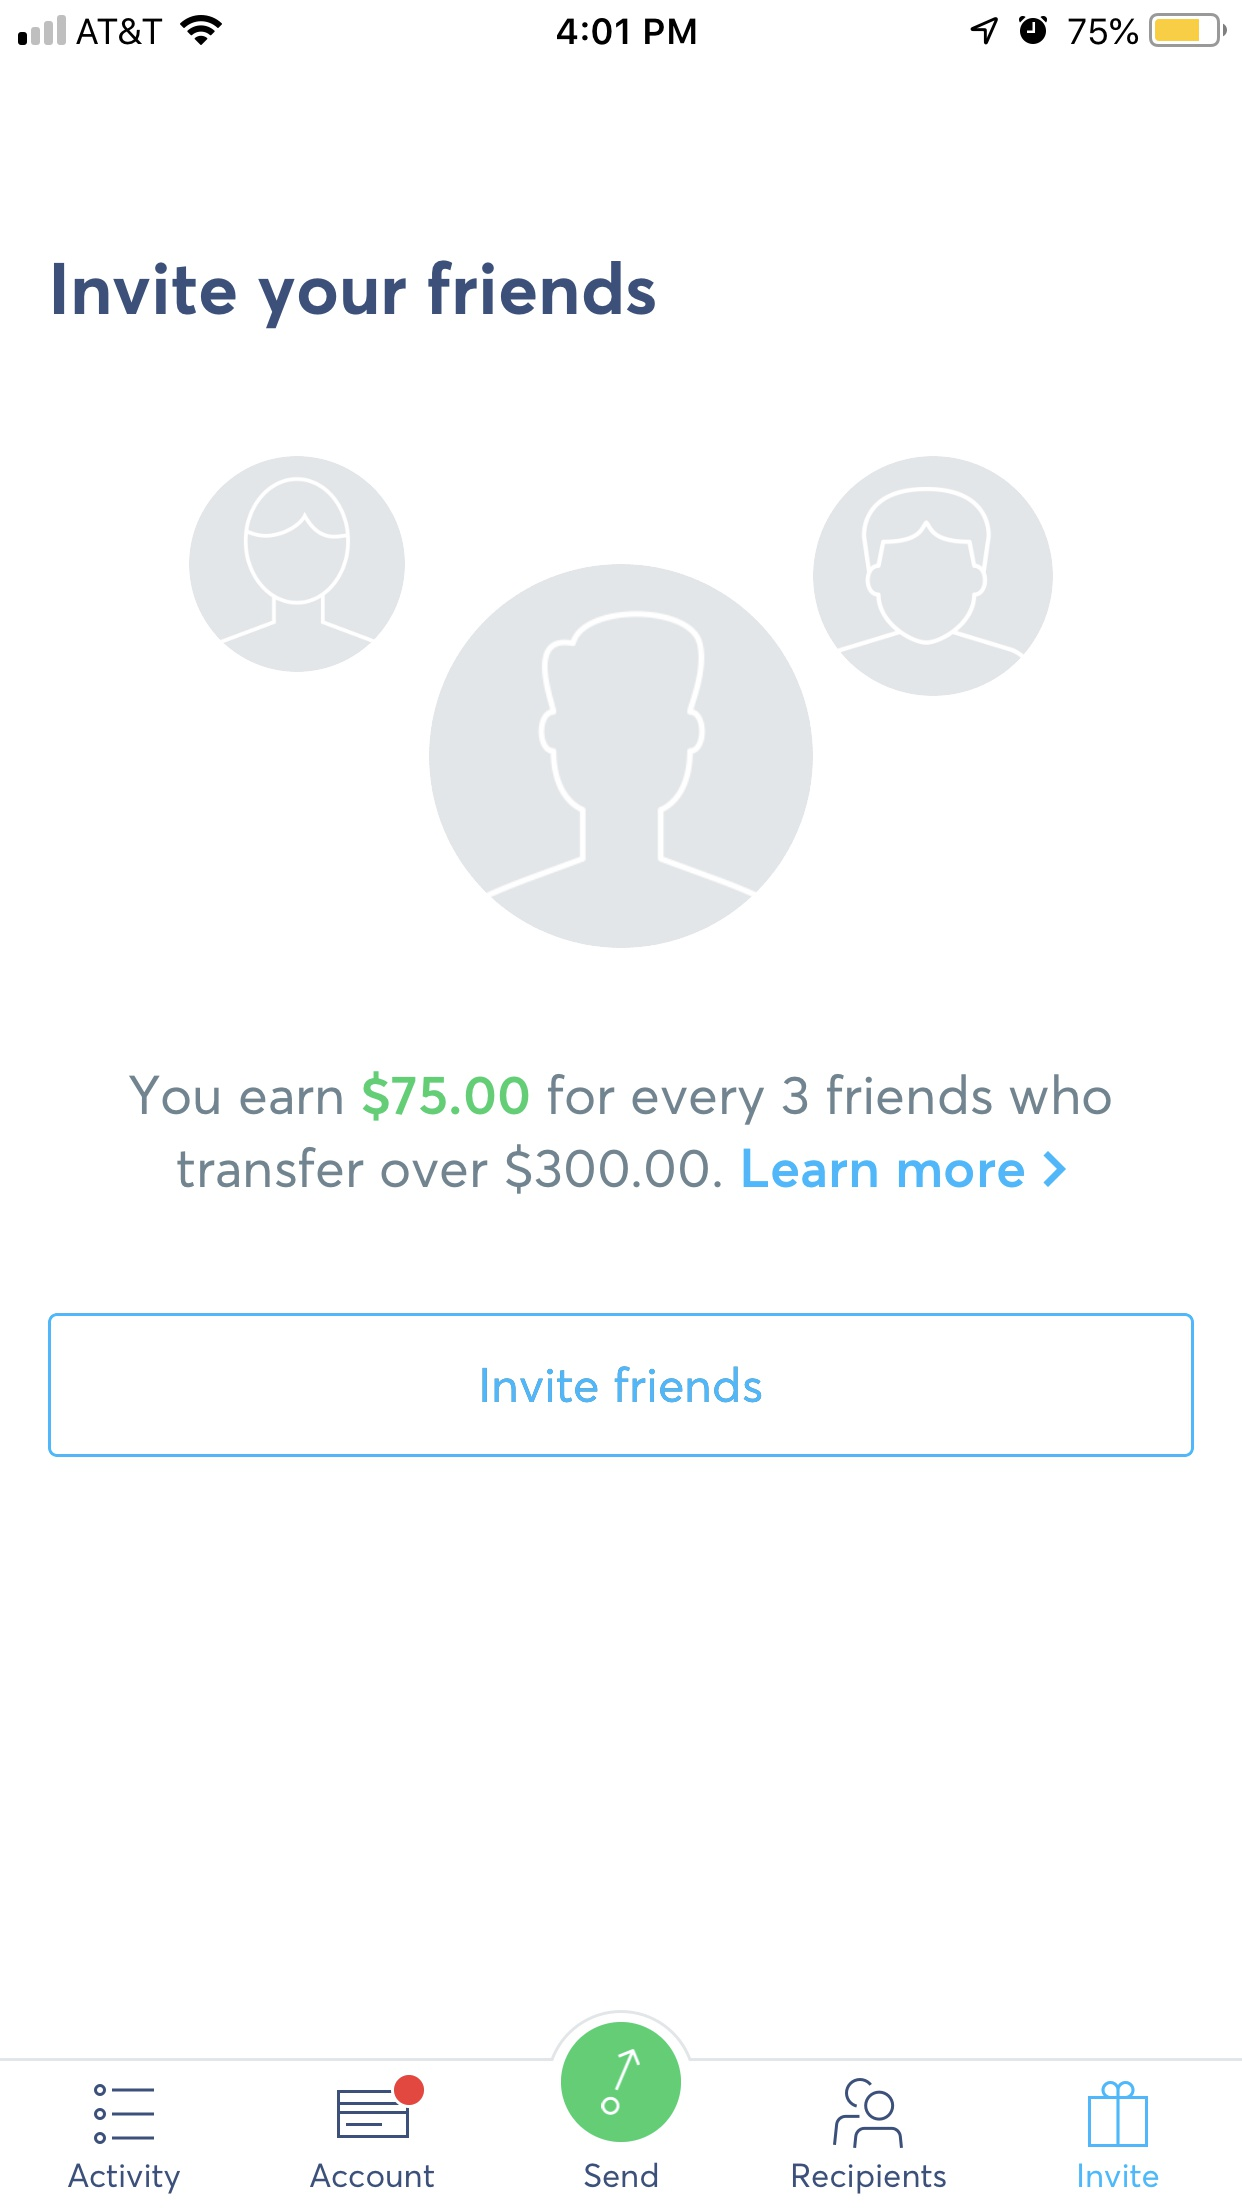Icon: (561, 2021, 682, 2143), (337, 2075, 425, 2138), (833, 2078, 904, 2149), (1087, 2081, 1149, 2147), (94, 2084, 155, 2144), (1043, 1151, 1068, 1187)
Image: (188, 455, 1054, 949)
Text: (129, 1071, 1112, 1197), (53, 261, 657, 331), (793, 2163, 946, 2194), (68, 2163, 180, 2194), (309, 2163, 435, 2188), (1080, 2163, 1159, 2188), (584, 2161, 658, 2188)
TextButton: (49, 1312, 1195, 1457)
UpperTaskBar: (2, 2, 1242, 49)
